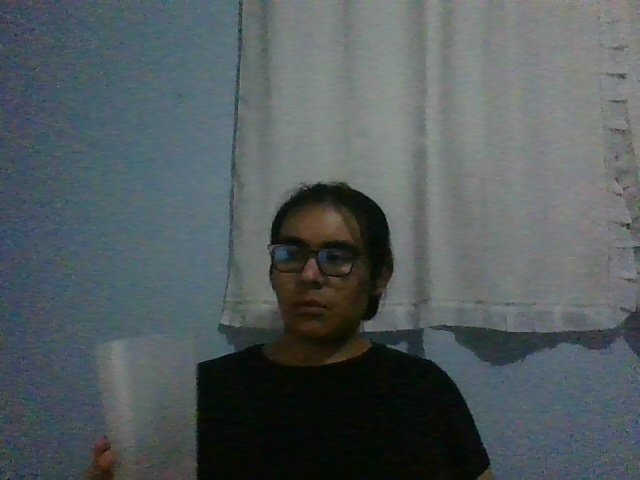vaso: (93, 332, 199, 479)
